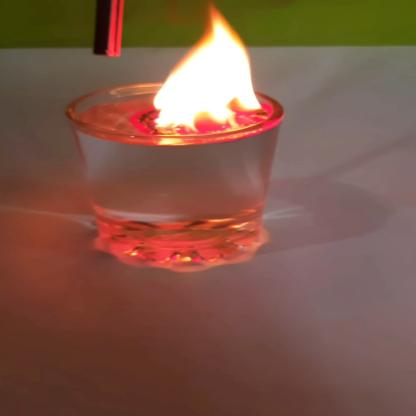Fire: (146, 13, 261, 131)
